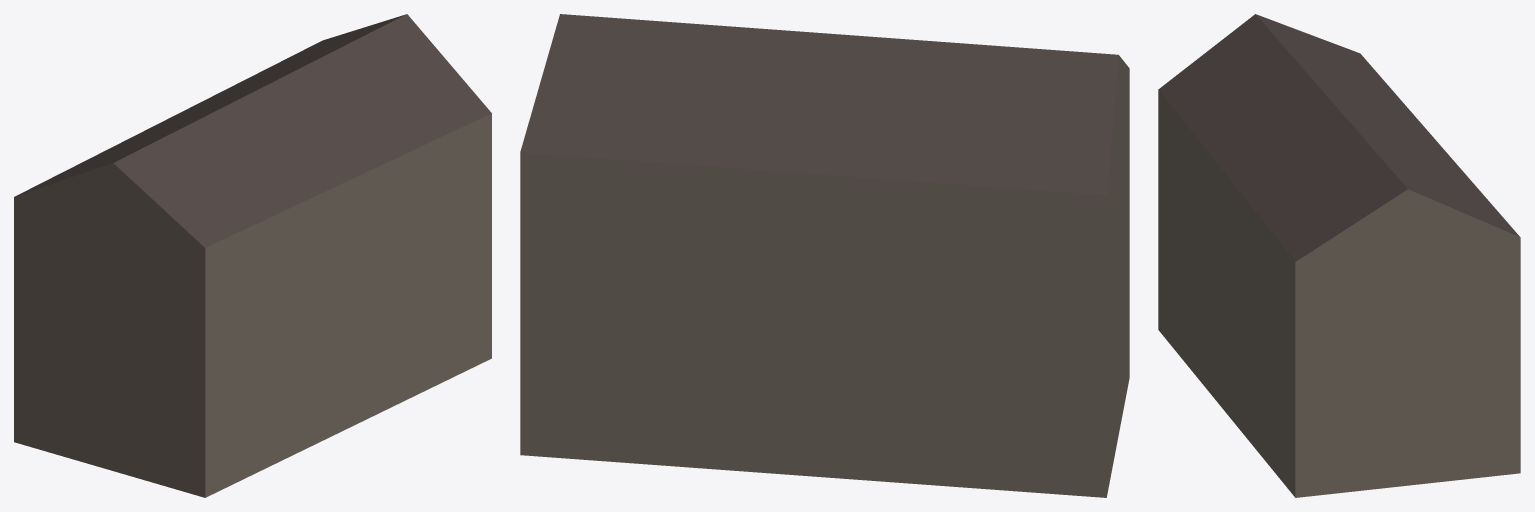
The picture shows the model from 3 angles, left to right: view 1: azimuth 30°, elevation 25°; view 2: azimuth 150°, elevation 25°; view 3: azimuth 270°, elevation 25°; orthographic projection. The views are drawn at different scales.
Visible parts, largest first — view 1: HP-w1198842500; view 2: HP-w1198842500; view 3: HP-w1198842500.
Boxes of the visible parts, x1,y1,x2,y2 form: HP-w1198842500: (14,14,491,497); HP-w1198842500: (520,14,1129,497); HP-w1198842500: (1158,14,1520,497).
Bounding box in the file's own units: 11.38 × 7.54 × 8.35.
